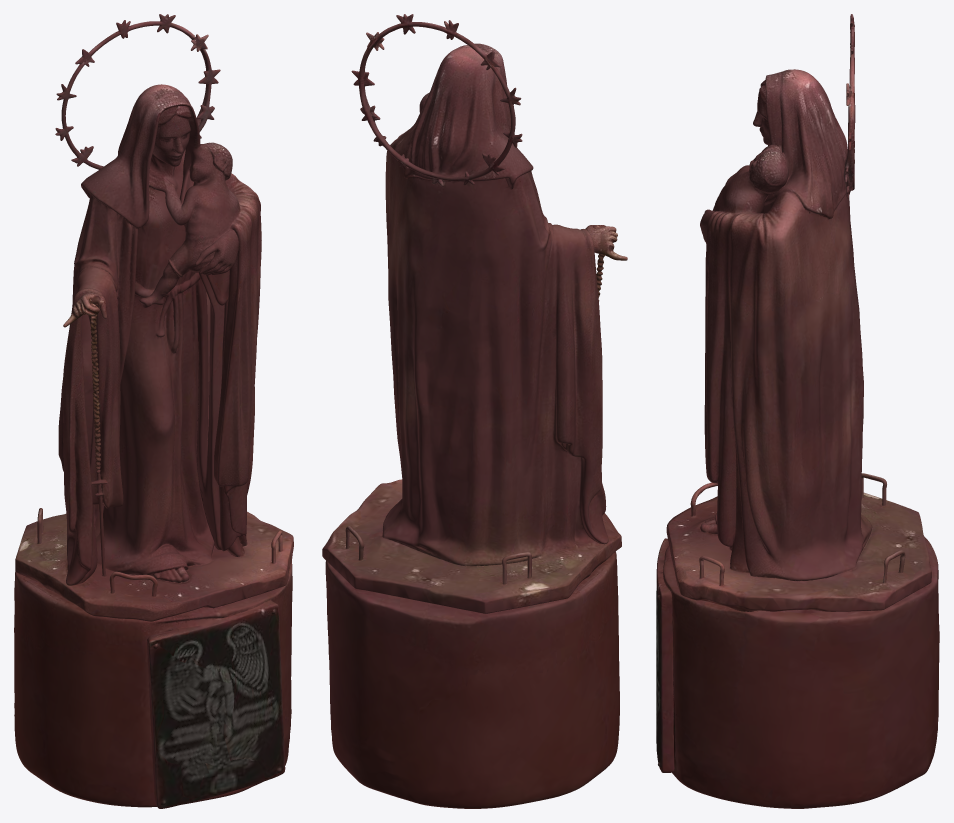
The model's file is Virgen del Rosario-mobile.glb.
3 views of the same model, side by side, from view 1: azimuth 30°, elevation 25°; view 2: azimuth 150°, elevation 25°; view 3: azimuth 270°, elevation 25° (orthographic). The views are drawn at different scales.
Bounding box in the file's own units: 0.6593 × 1.9 × 0.6637.
1 material, 1 textured.
